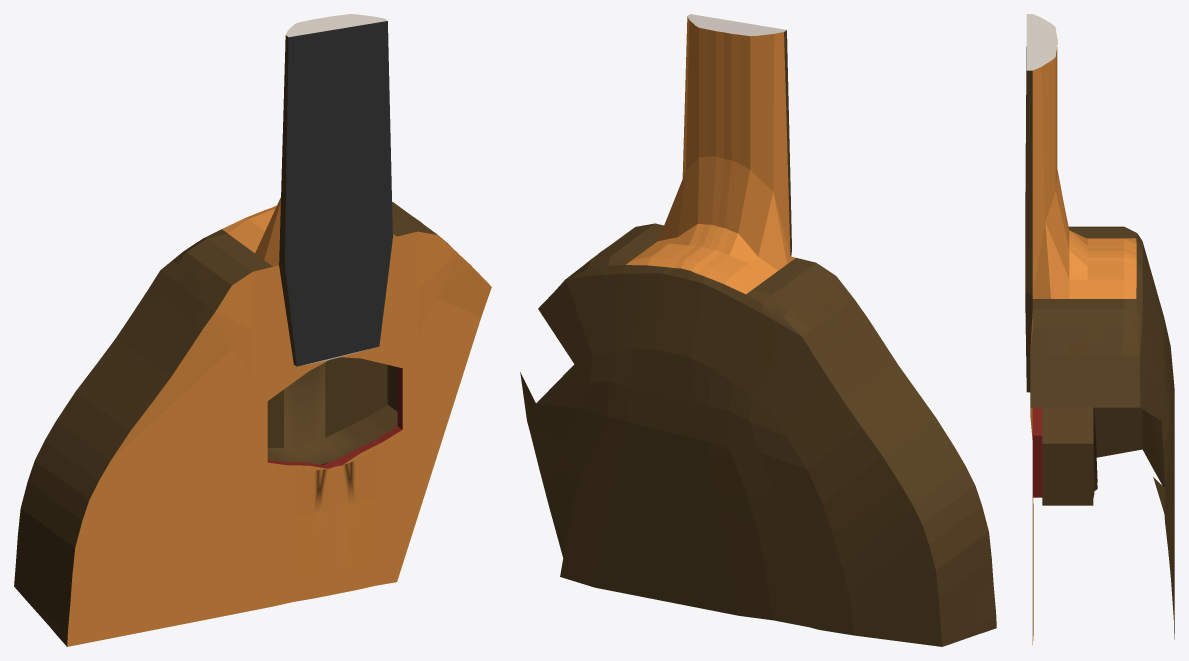
The model's file is lutePiece3.fbx.
3 views of the same model, side by side, from view 1: azimuth 30°, elevation 25°; view 2: azimuth 150°, elevation 25°; view 3: azimuth 270°, elevation 25° (orthographic). The views are drawn at different scales.
Visible parts, largest first — view 1: Cube_cell.001; view 2: Cube_cell.001; view 3: Cube_cell.001.
Boxes of the visible parts, x1,y1,x2,y2 form: Cube_cell.001: [14, 14, 491, 646]; Cube_cell.001: [520, 14, 996, 646]; Cube_cell.001: [1025, 14, 1174, 644].
Size of the model in its own units: 45.16 by 57.69 by 13.53.
